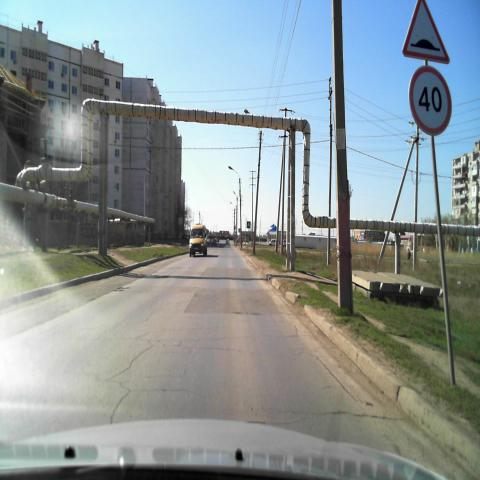1_17: (396, 0, 453, 68)
